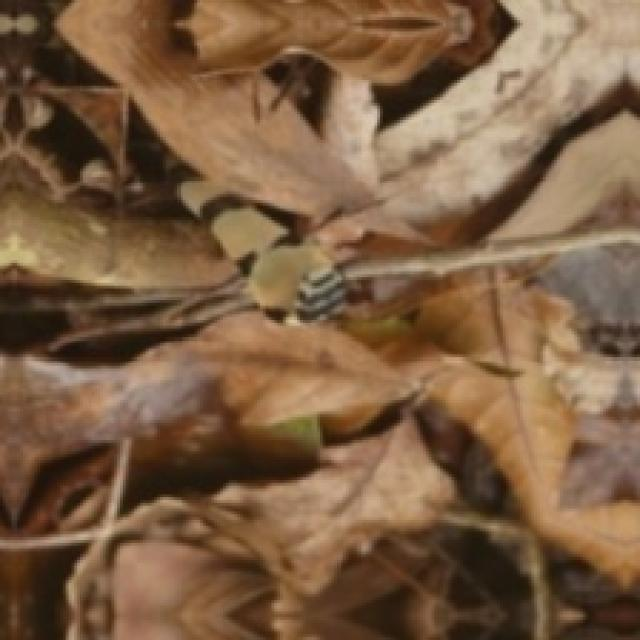king cobra: (167, 152, 346, 320)
